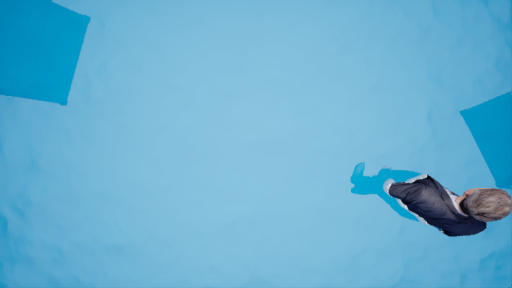person: (340, 155, 512, 246)
